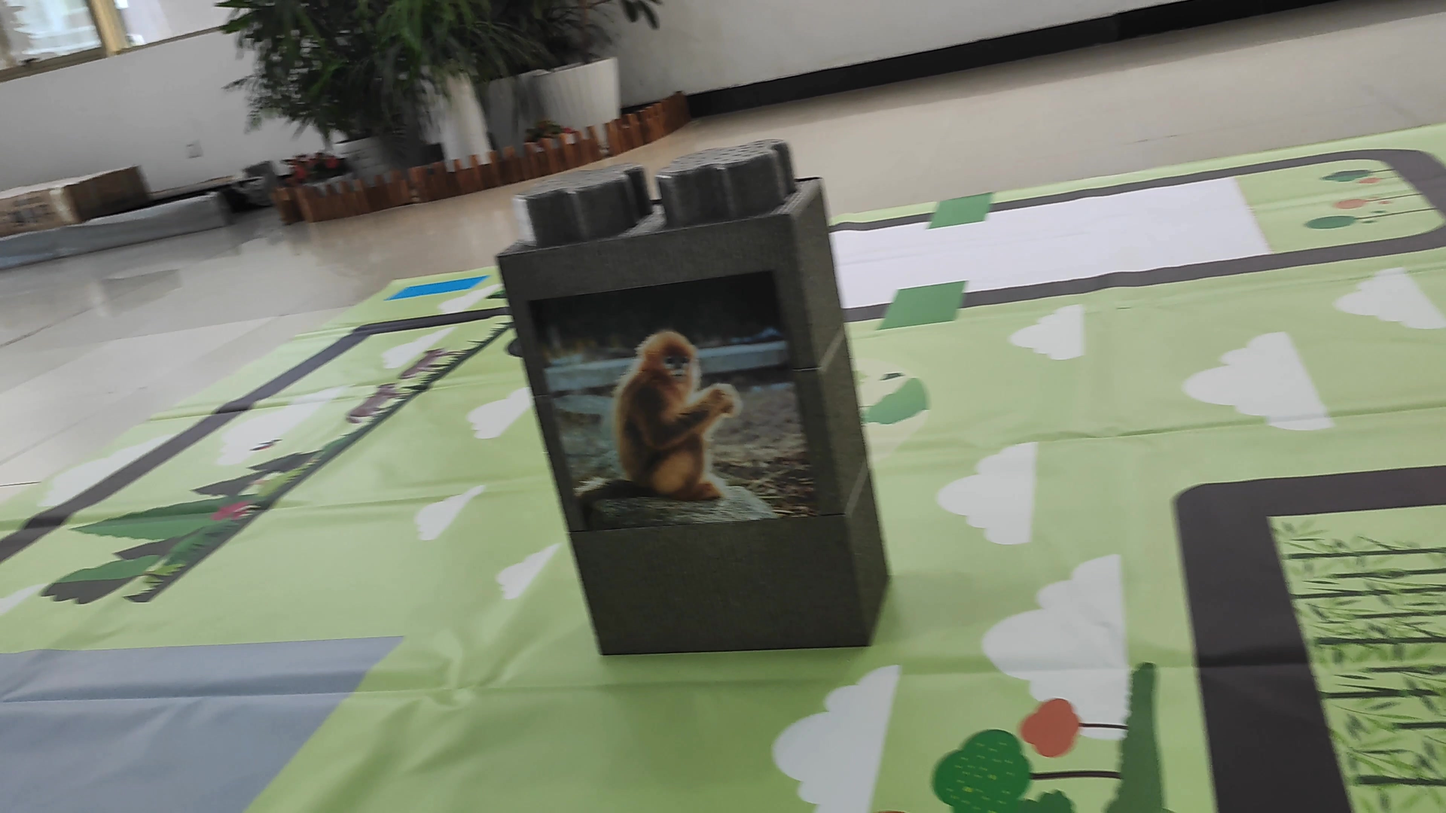monkey: (585, 314, 764, 528)
